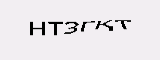Г: (62, 10, 80, 31)
Е: (32, 16, 49, 36)
М: (83, 12, 103, 35)
Щ: (103, 18, 127, 42)
Я: (44, 11, 61, 34)
